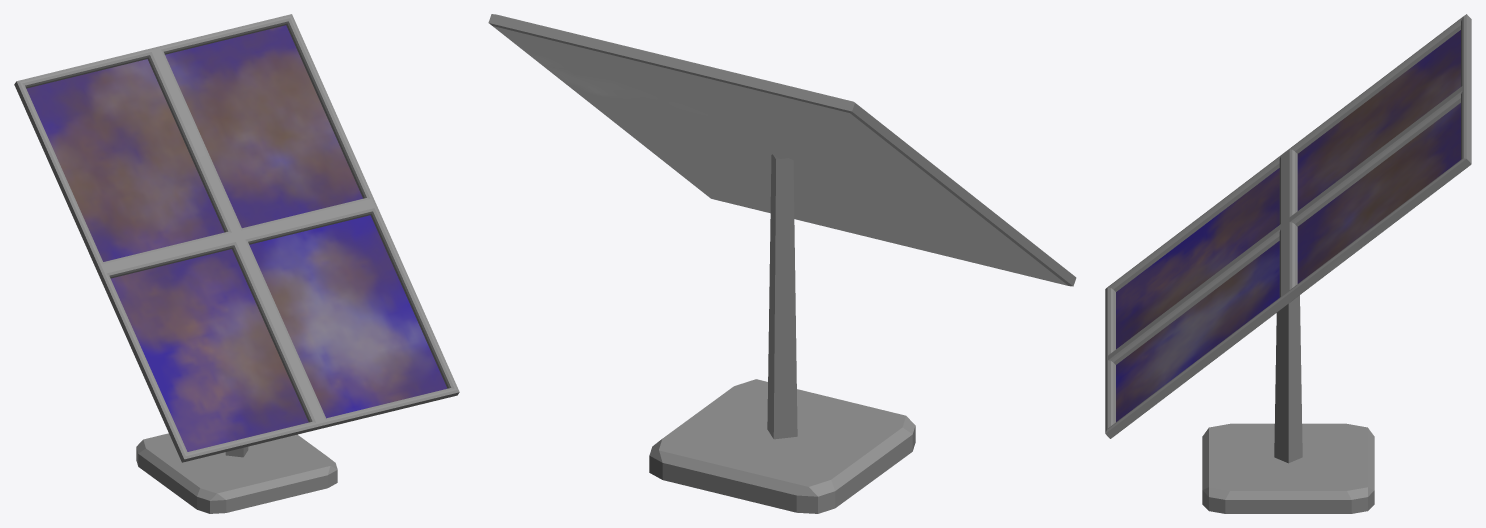
File: SolarPanel-original.glb
3 renders of one model, left to right at view 1: azimuth 30°, elevation 25°; view 2: azimuth 150°, elevation 25°; view 3: azimuth 270°, elevation 25°, orthographic. The views are drawn at different scales.
Parts seen in each view (by area): view 1: Panel, SolarBase; view 2: Panel, SolarBase; view 3: Panel, SolarBase.
Boxes of the visible parts, x1,y1,x2,y2 form: Panel: [14, 14, 459, 462]; SolarBase: [136, 433, 337, 513]; Panel: [488, 14, 1076, 286]; SolarBase: [649, 154, 915, 513]; Panel: [1105, 14, 1471, 438]; SolarBase: [1202, 295, 1374, 513].
Bounding box in the file's own units: 3.97 × 5.01 × 4.25.
Materials: 1 (1 with a texture image).
